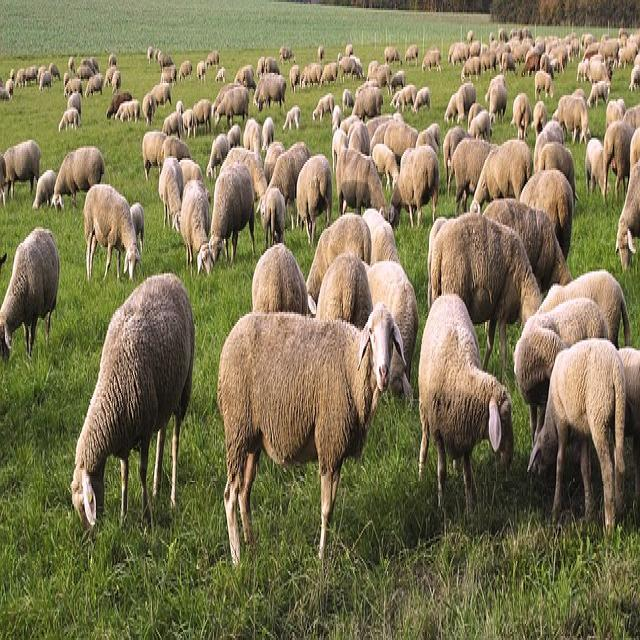goat: (216, 312, 383, 567), (69, 273, 196, 527), (419, 294, 512, 512), (527, 338, 626, 529), (428, 213, 544, 334), (0, 229, 62, 365), (197, 154, 254, 273), (82, 182, 144, 277), (51, 146, 109, 213)
